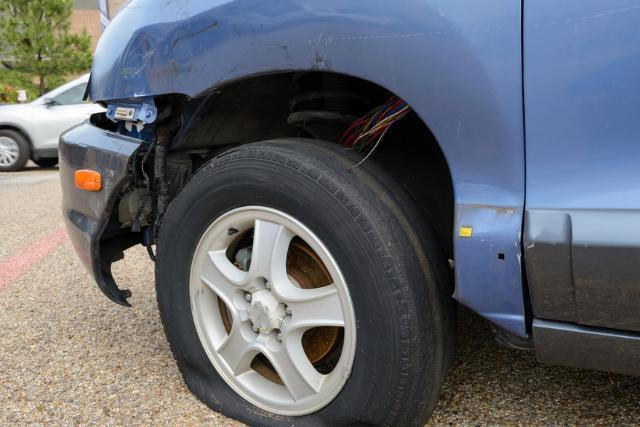Bumper: (49, 124, 144, 293)
